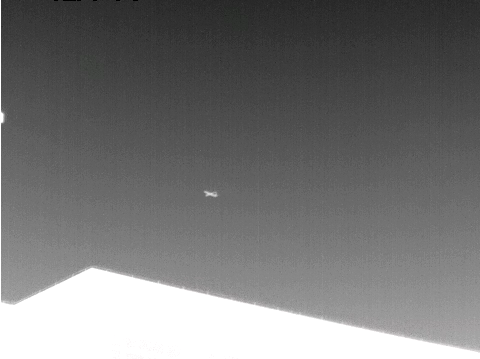dim target: (203, 189, 218, 199)
